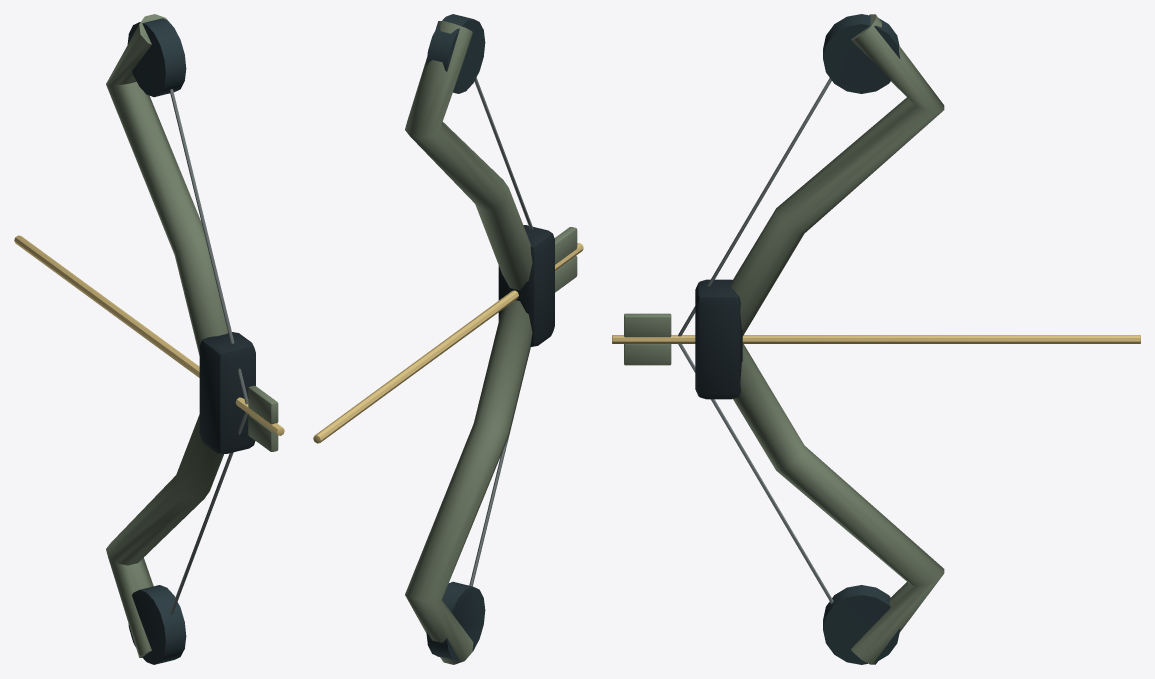
Rendered from kf-weapon-bow.glb.
3 renders of one model, left to right at view 1: azimuth 30°, elevation 25°; view 2: azimuth 150°, elevation 25°; view 3: azimuth 270°, elevation 25°, orthographic.
Visible parts, largest first — view 1: Weapon Painted receiver, Weapon Gunmetal, Weapon Grip rubber, Weapon Markings, Weapon Machined steel; view 2: Weapon Painted receiver, Weapon Gunmetal, Weapon Grip rubber, Weapon Markings, Weapon Machined steel; view 3: Weapon Painted receiver, Weapon Gunmetal, Weapon Grip rubber, Weapon Markings, Weapon Machined steel.
Boxes of the visible parts, x1,y1,x2,y2 form: Weapon Painted receiver: (106,14,278,657); Weapon Gunmetal: (127,18,186,664); Weapon Grip rubber: (199,332,255,453); Weapon Markings: (14,235,284,435); Weapon Machined steel: (169,89,248,614); Weapon Painted receiver: (405,21,577,664); Weapon Gunmetal: (426,14,485,661); Weapon Grip rubber: (498,225,554,346); Weapon Markings: (313,243,583,443); Weapon Machined steel: (469,77,533,586); Weapon Painted receiver: (624,14,944,664); Weapon Gunmetal: (823,14,900,664); Weapon Grip rubber: (695,279,742,399); Weapon Markings: (612,335,1140,343); Weapon Machined steel: (678,78,833,603).
Size of the model in its own units: 0.08 by 1.2 by 0.89.
